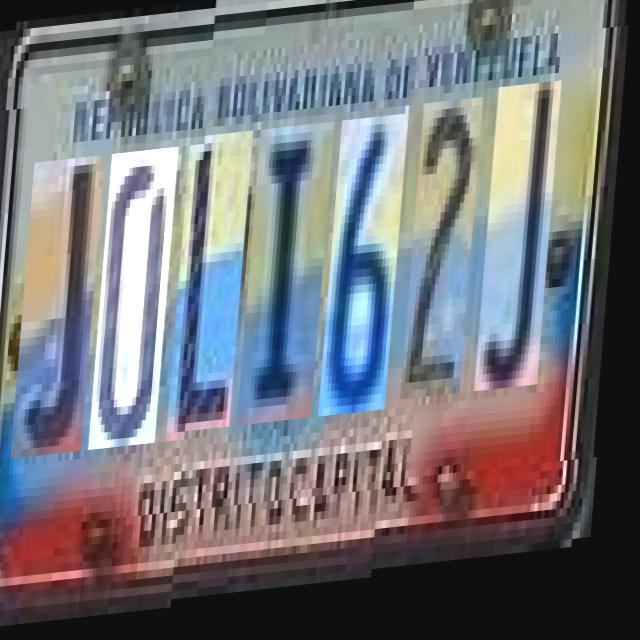0: (98, 135, 182, 437)
2: (408, 108, 486, 410)
6: (327, 115, 412, 417)
I: (245, 122, 338, 424)
J: (20, 142, 109, 444), (482, 94, 564, 404)
L: (175, 128, 257, 430)
